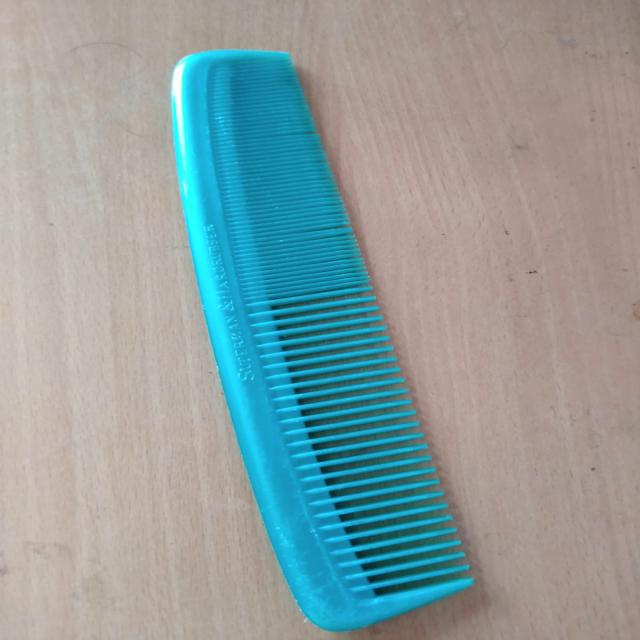Comb: (158, 48, 486, 630)
